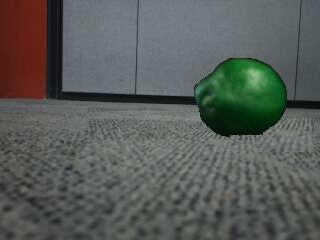Lime: (194, 58, 288, 136)
